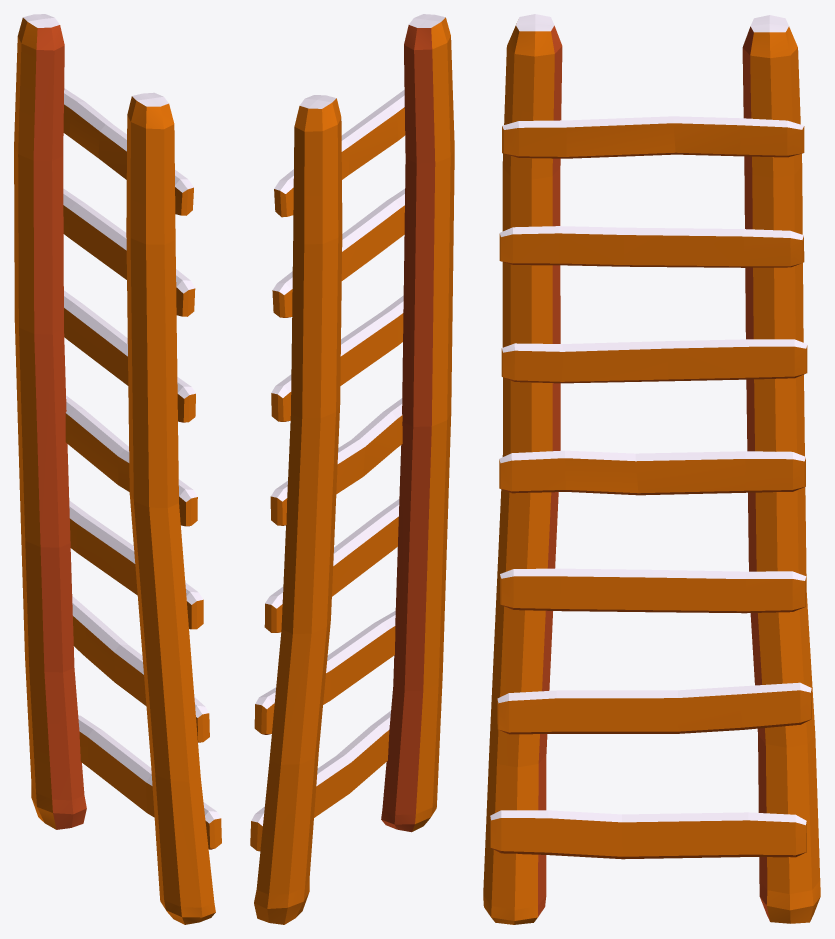
Rendered from winter_castle_item1.glb.
The picture shows the model from 3 angles, left to right: view 1: azimuth 30°, elevation 25°; view 2: azimuth 150°, elevation 25°; view 3: azimuth 270°, elevation 25°; orthographic projection. The views are drawn at different scales.
Parts seen in each view (by area): view 1: Item1_Medieval_0; view 2: Item1_Medieval_0; view 3: Item1_Medieval_0.
Part boxes in pixels (<box>): Item1_Medieval_0: <box>14,14,221,924</box>; Item1_Medieval_0: <box>250,14,454,924</box>; Item1_Medieval_0: <box>483,14,820,924</box>.
Bounding box in the file's own units: 0.179 × 1.89 × 0.6559.
Materials: 1 (1 with a texture image).
